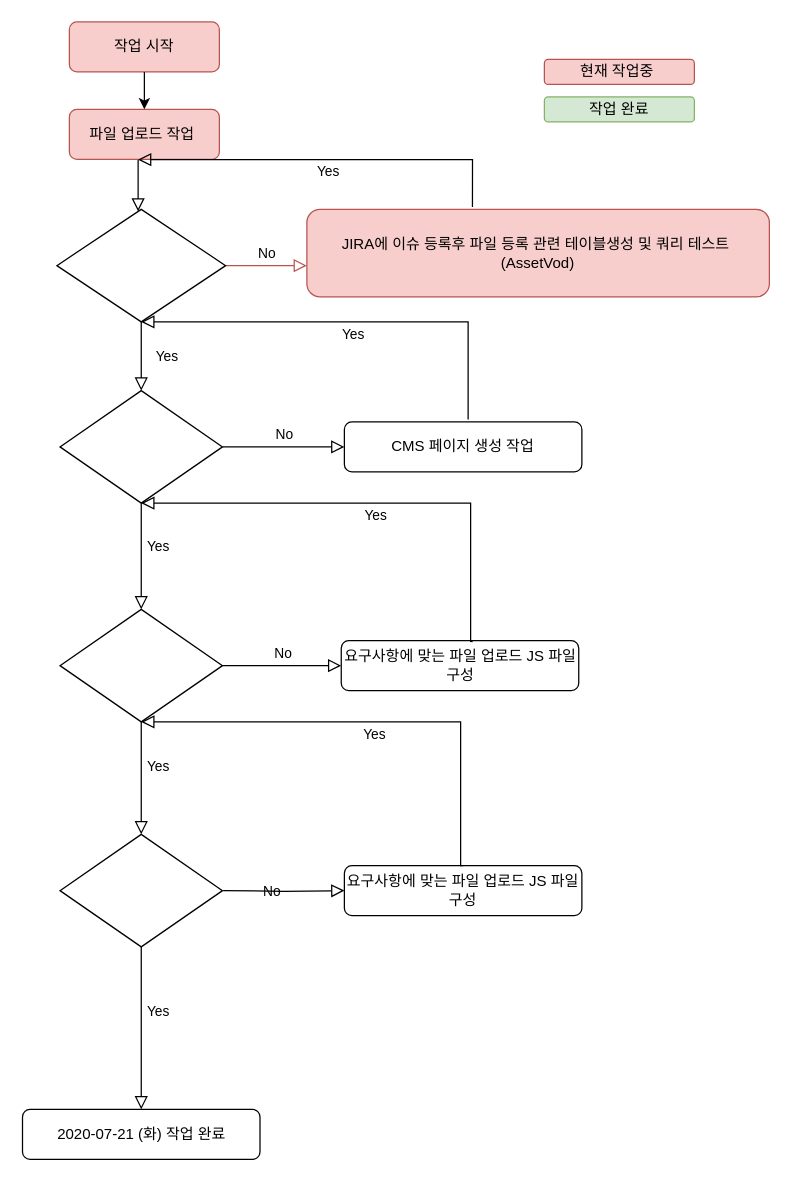
Some shapes in this 791 by 1181 pixel diagram are drawn without their labels. Here are the shapes that lost their labels. From the top down, the centre of each, then its label:
At pixel 141 265: "ERD 구축을 다 했는가?".
At pixel 140 446: "CMS 페이지를 구축하였는가?".
At pixel 140 665: "파일 업로드 JS를 구축하였는가?".
At pixel 140 890: "콘텐츠 업로드 수정 삭제 버튼 작업을 하엿는가?".
